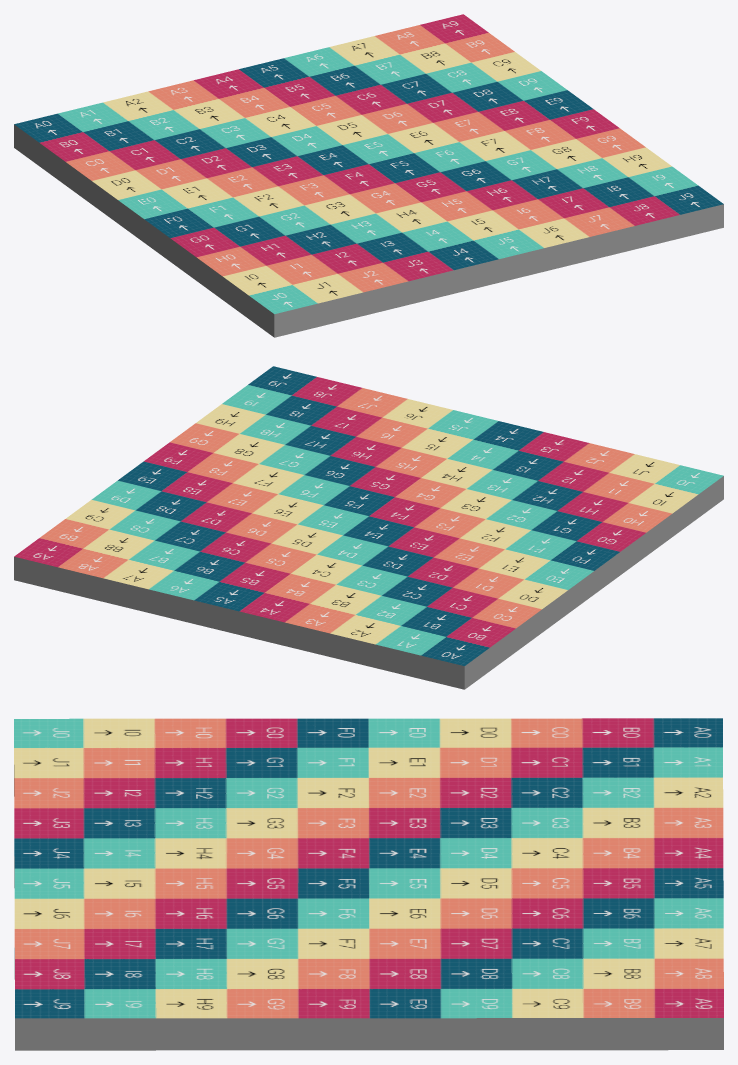
The model's file is dodai3.fbx.
The picture shows the model from 3 angles, top to bottom: view 1: azimuth 30°, elevation 25°; view 2: azimuth 150°, elevation 25°; view 3: azimuth 270°, elevation 25°; orthographic projection. The views are drawn at different scales.
Parts seen in each view (by area): view 1: pCube1; view 2: pCube1; view 3: pCube1.
Boxes of the visible parts, x1,y1,x2,y2 form: pCube1: [14, 14, 723, 337]; pCube1: [14, 366, 723, 689]; pCube1: [14, 718, 723, 1050].
Size of the model in its own units: 20.03 by 1 by 20.03.
Materials: 2 (1 with a texture image).
